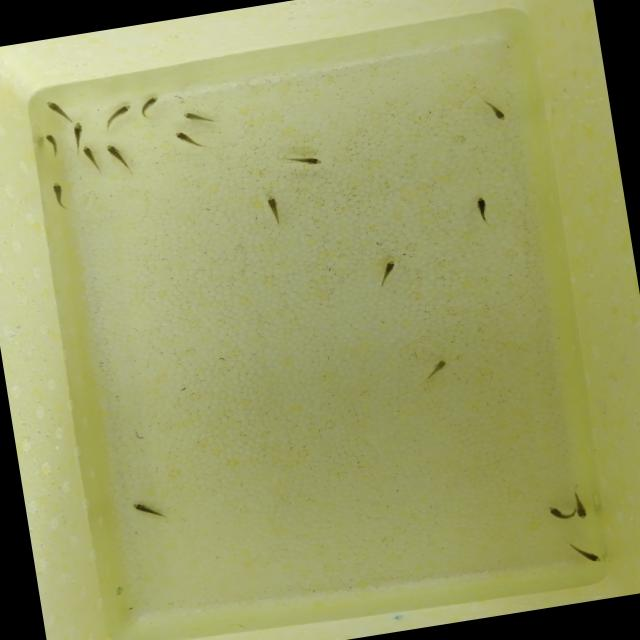fingerling: (96, 102, 141, 133), (563, 538, 603, 570), (281, 146, 325, 172), (126, 498, 170, 522), (374, 255, 402, 290), (418, 357, 452, 385), (42, 94, 73, 124), (260, 190, 284, 228), (170, 126, 205, 151), (137, 92, 166, 122), (106, 140, 131, 174), (471, 194, 495, 226), (47, 180, 69, 213), (180, 108, 219, 126), (41, 129, 64, 159), (80, 142, 98, 180), (70, 120, 89, 154), (540, 503, 566, 523), (490, 101, 510, 124), (574, 490, 588, 521)
